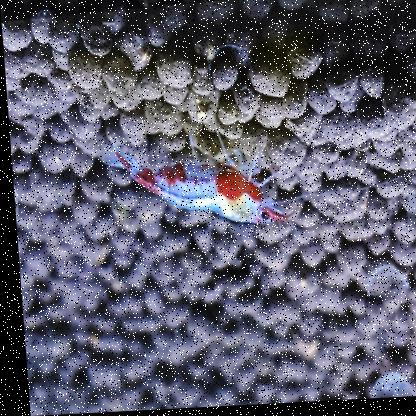shrimp: (104, 129, 282, 235)
